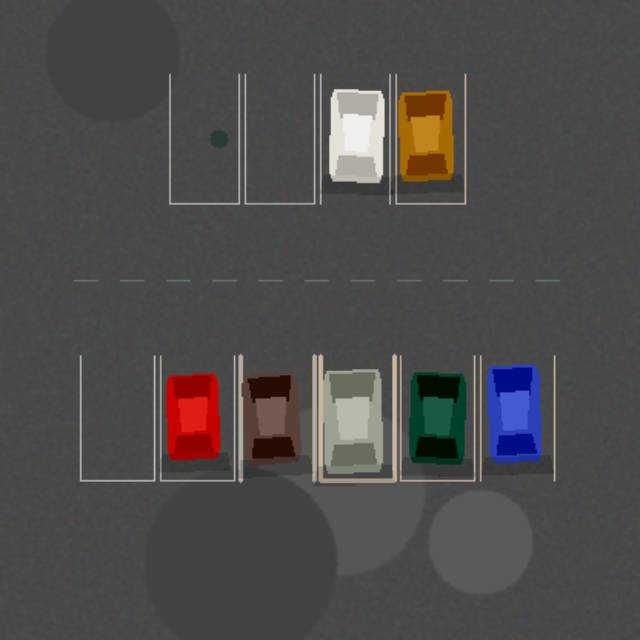space-empty: (80, 355, 154, 480), (169, 74, 238, 203), (245, 74, 314, 203)
space-occupied: (160, 355, 234, 480), (240, 355, 314, 480), (320, 355, 394, 480), (400, 355, 474, 480), (480, 355, 554, 480), (395, 74, 465, 203), (320, 74, 389, 203)
